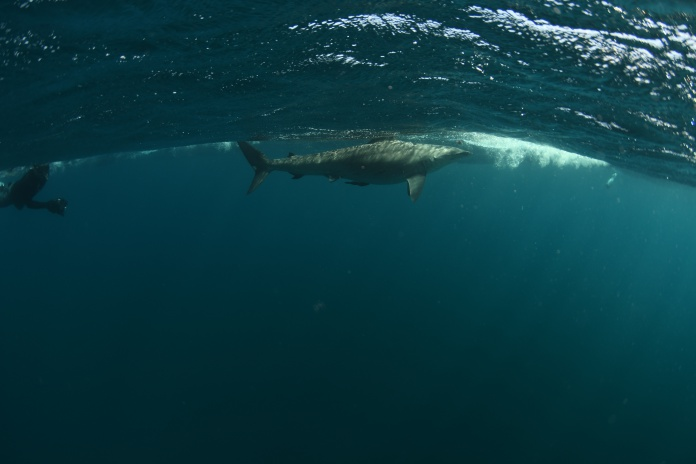Hammer: (225, 121, 488, 219)
